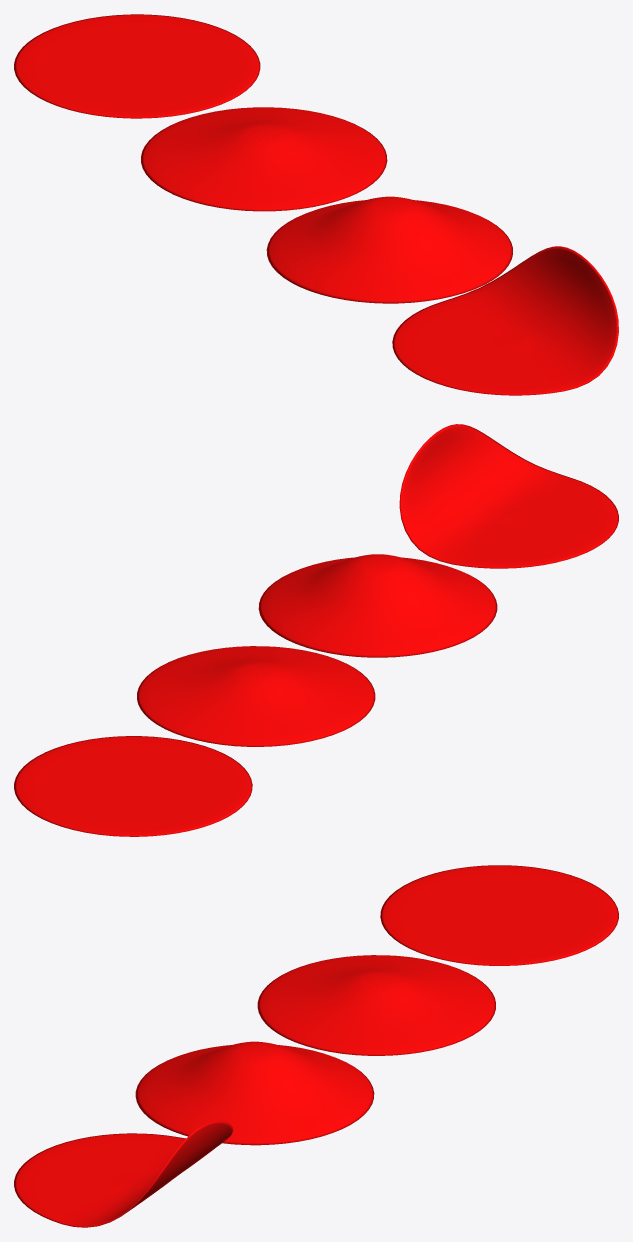
The model's file is umgebung_teppich_low.FBX.
3 views of the same model, one above another, from view 1: azimuth 30°, elevation 25°; view 2: azimuth 150°, elevation 25°; view 3: azimuth 330°, elevation 25° (orthographic). The views are drawn at different scales.
Visible parts, largest first — view 1: o_teppich_hochgehoben_low, o_teppich_starkgewölbt_low, o_teppich_flach_low, o_teppich_leichtgewölbt_low; view 2: o_teppich_hochgehoben_low, o_teppich_starkgewölbt_low, o_teppich_leichtgewölbt_low, o_teppich_flach_low; view 3: o_teppich_leichtgewölbt_low, o_teppich_flach_low, o_teppich_starkgewölbt_low, o_teppich_hochgehoben_low.
Part boxes in pixels (x1=…): o_teppich_hochgehoben_low: x1=392, y1=246, x2=618, y2=395; o_teppich_starkgewölbt_low: x1=266, y1=196, x2=512, y2=303; o_teppich_flach_low: x1=14, y1=14, x2=260, y2=118; o_teppich_leichtgewölbt_low: x1=141, y1=107, x2=387, y2=211; o_teppich_hochgehoben_low: x1=399, y1=424, x2=618, y2=568; o_teppich_starkgewölbt_low: x1=258, y1=554, x2=497, y2=657; o_teppich_leichtgewölbt_low: x1=137, y1=646, x2=375, y2=746; o_teppich_flach_low: x1=14, y1=736, x2=252, y2=836; o_teppich_leichtgewölbt_low: x1=257, y1=955, x2=495, y2=1055; o_teppich_flach_low: x1=380, y1=865, x2=618, y2=965; o_teppich_starkgewölbt_low: x1=135, y1=1041, x2=374, y2=1145; o_teppich_hochgehoben_low: x1=14, y1=1120, x2=233, y2=1227.
Bounding box in the file's own units: 353 × 1437 × 116.
